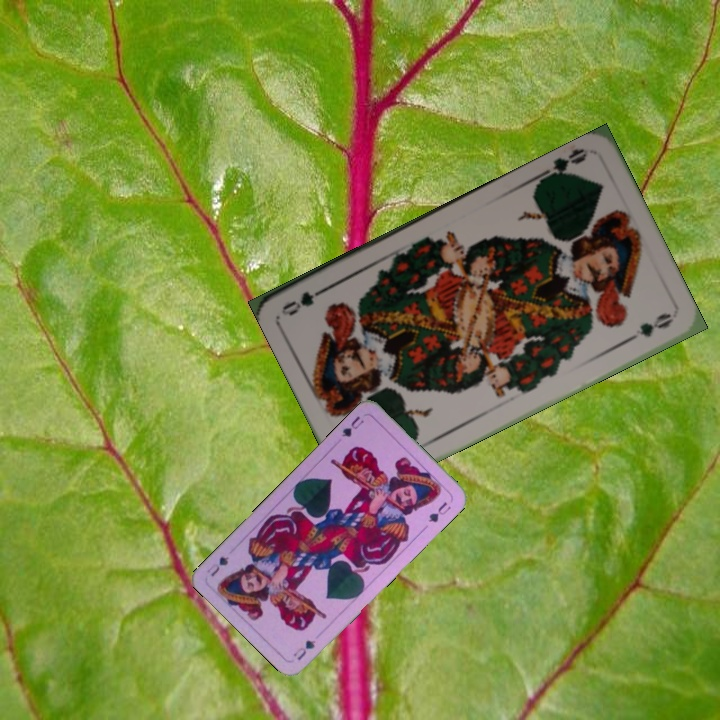GO: (536, 144, 591, 182)
GU: (337, 412, 367, 440), (289, 636, 318, 663)
